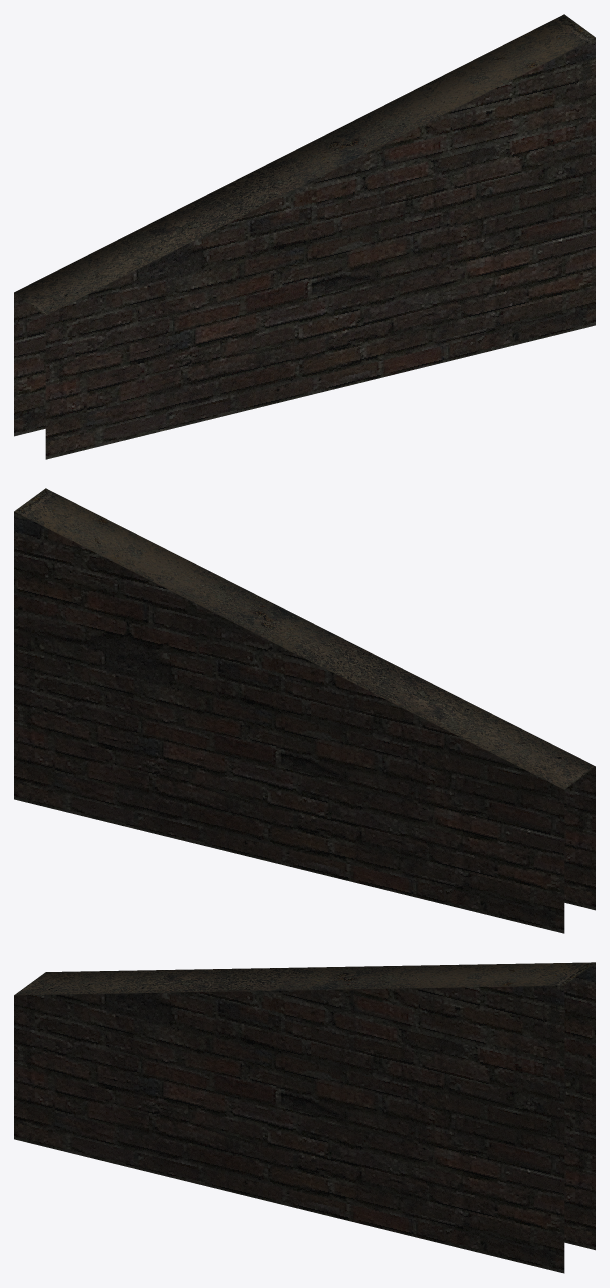
Rendered from wall_top_part_hs_2.glb.
3 views of the same model, one above another, from view 1: azimuth 30°, elevation 25°; view 2: azimuth 150°, elevation 25°; view 3: azimuth 330°, elevation 25° (orthographic).
Visible parts, largest first — view 1: wall_top_part_hs_2; view 2: wall_top_part_hs_2; view 3: wall_top_part_hs_2.
Part boxes in pixels (bbox=[...]): wall_top_part_hs_2: bbox=[14, 14, 595, 459]; wall_top_part_hs_2: bbox=[14, 488, 595, 933]; wall_top_part_hs_2: bbox=[14, 962, 595, 1273].
Bounding box in the file's own units: 4 × 2 × 0.4.
2 materials, 2 textured.
